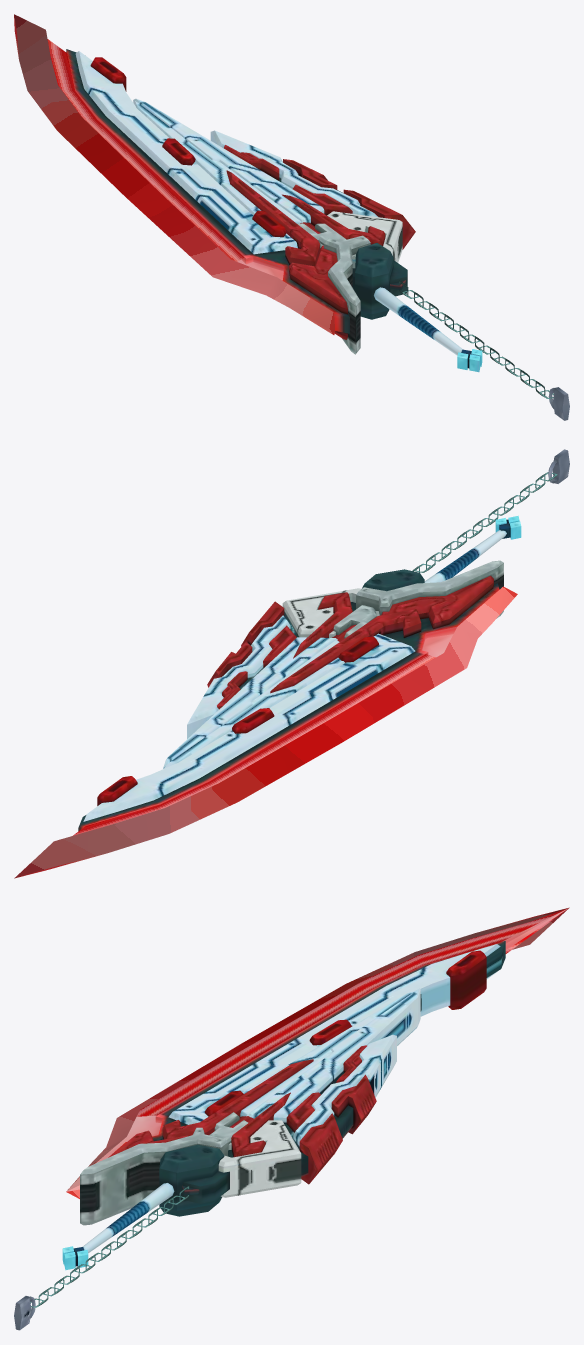
Rendered from sword_l_mecha_sword_mecha_sword_red_s.glb.
The picture shows the model from 3 angles, top to bottom: view 1: azimuth 30°, elevation 25°; view 2: azimuth 150°, elevation 25°; view 3: azimuth 330°, elevation 25°; orthographic projection. The views are drawn at different scales.
Bounding box in the file's own units: 0.5068 × 0.1309 × 2.4.
Materials: 4 (4 with a texture image).
